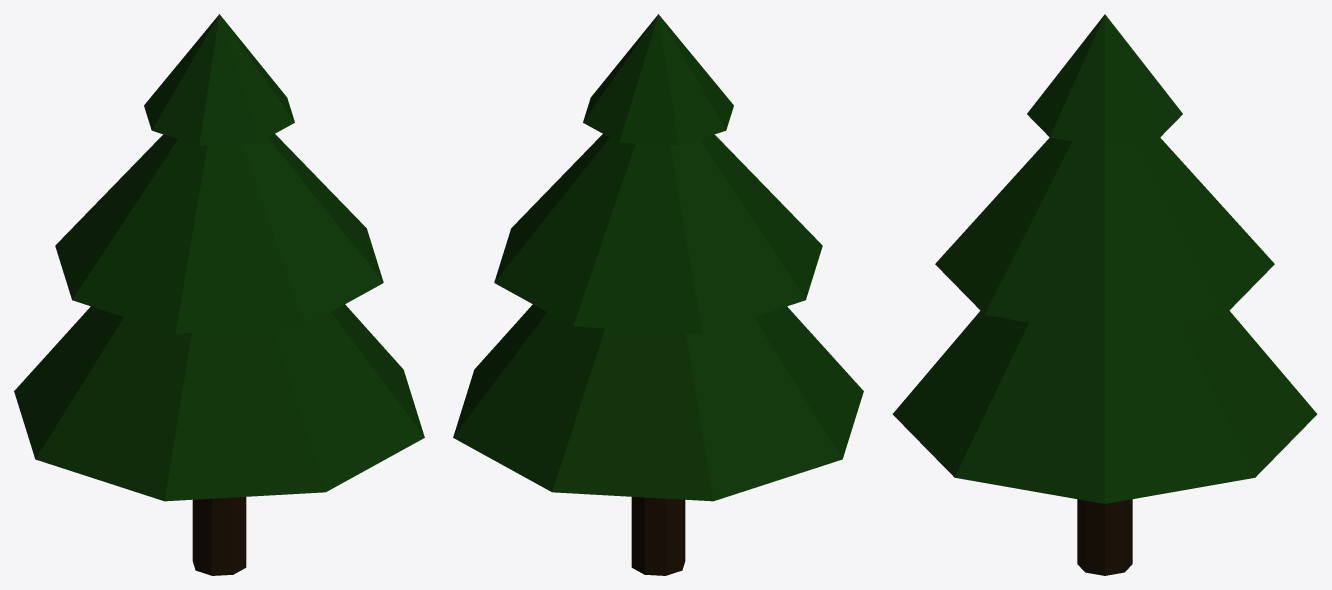
The model's file is Baum.fbx.
3 views of the same model, side by side, from view 1: azimuth 30°, elevation 25°; view 2: azimuth 150°, elevation 25°; view 3: azimuth 270°, elevation 25° (orthographic).
Parts seen in each view (by area): view 1: Cylinder; view 2: Cylinder; view 3: Cylinder.
Boxes of the visible parts, bbox=[...] form: Cylinder: bbox=[14, 14, 424, 575]; Cylinder: bbox=[453, 14, 863, 575]; Cylinder: bbox=[892, 14, 1317, 575].
Bounding box in the file's own units: 154 × 220 × 154.
